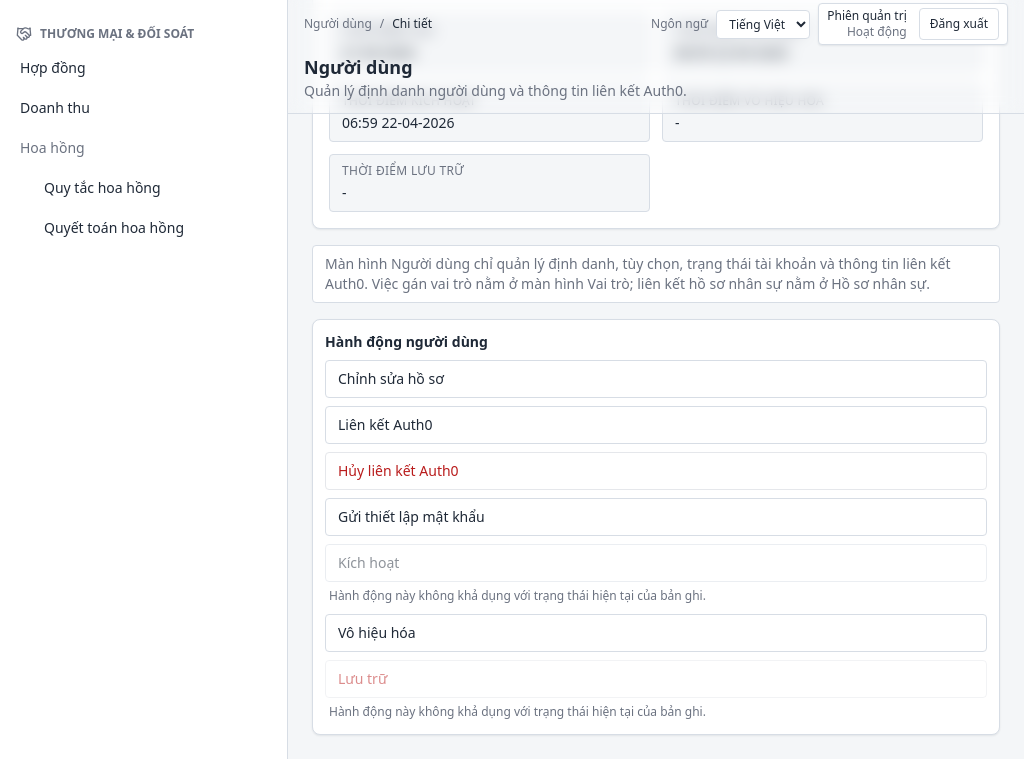
Test: user IA-1 surfaces › links and unlinks Auth0 through backend-owned account routes
(page scrolled)
Click the button "Liên kết Auth0" at [385, 424], box [325,406,987,444]
(page scrolled)
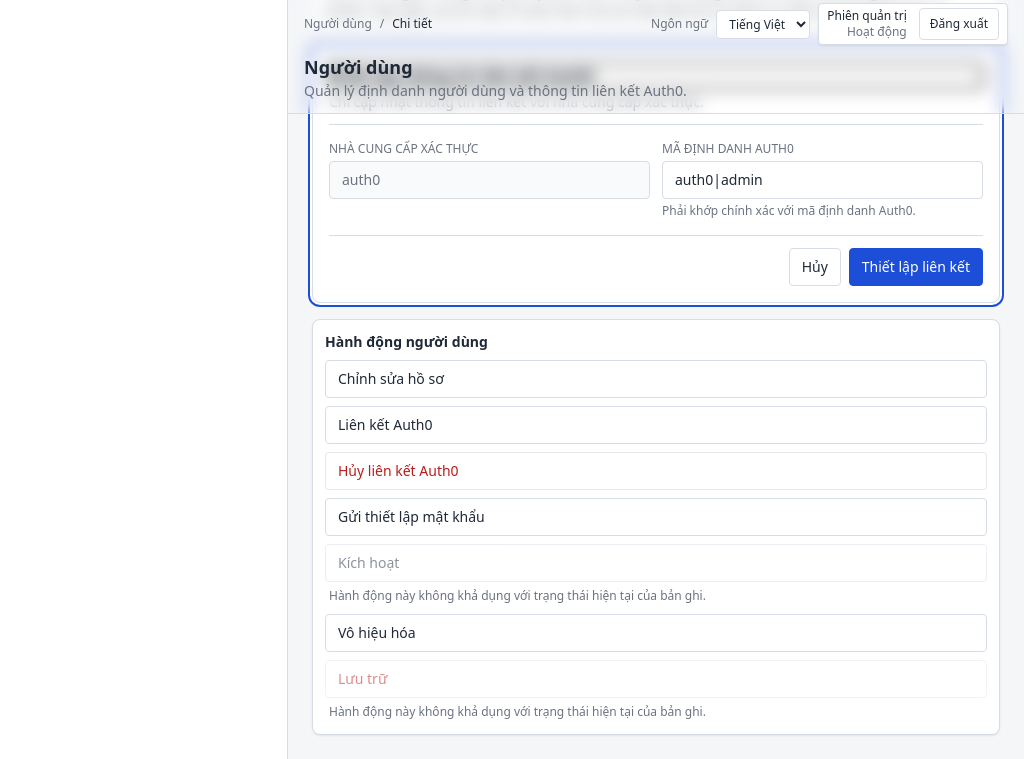
Replace the text in the field labelled "Mã định danh Auth0" with "auth0|ia-linked" at [822, 180], box [662,161,983,199]
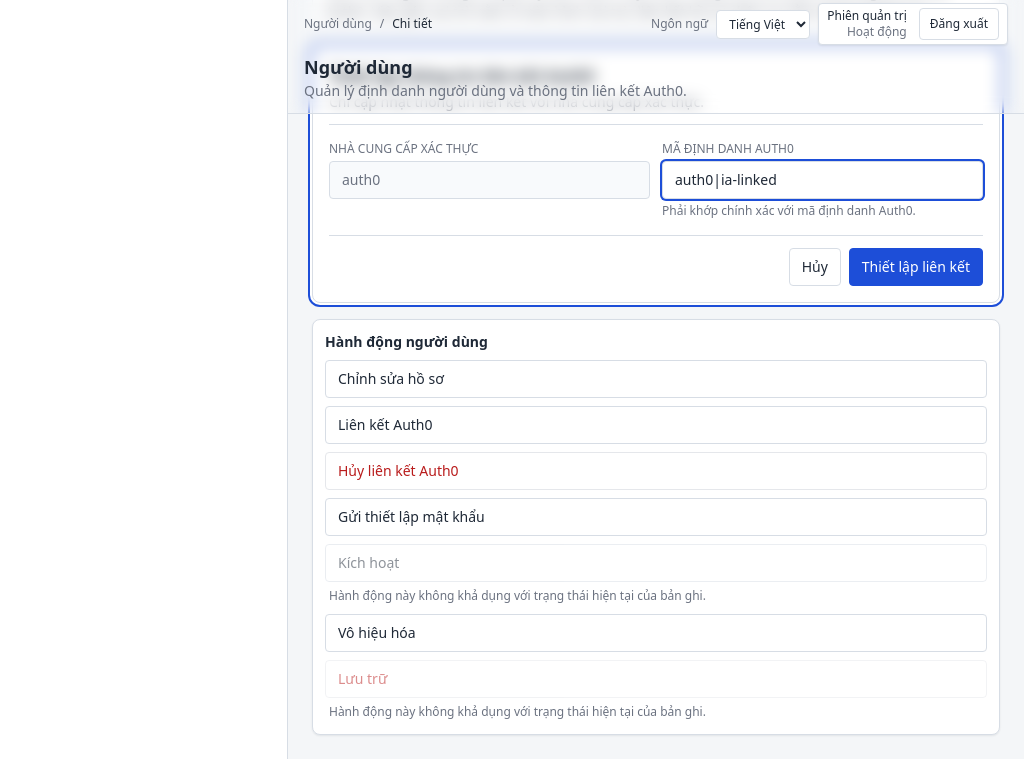
Click the button "Thiết lập liên kết" at [916, 267], box [849,248,983,286]
(page scrolled)
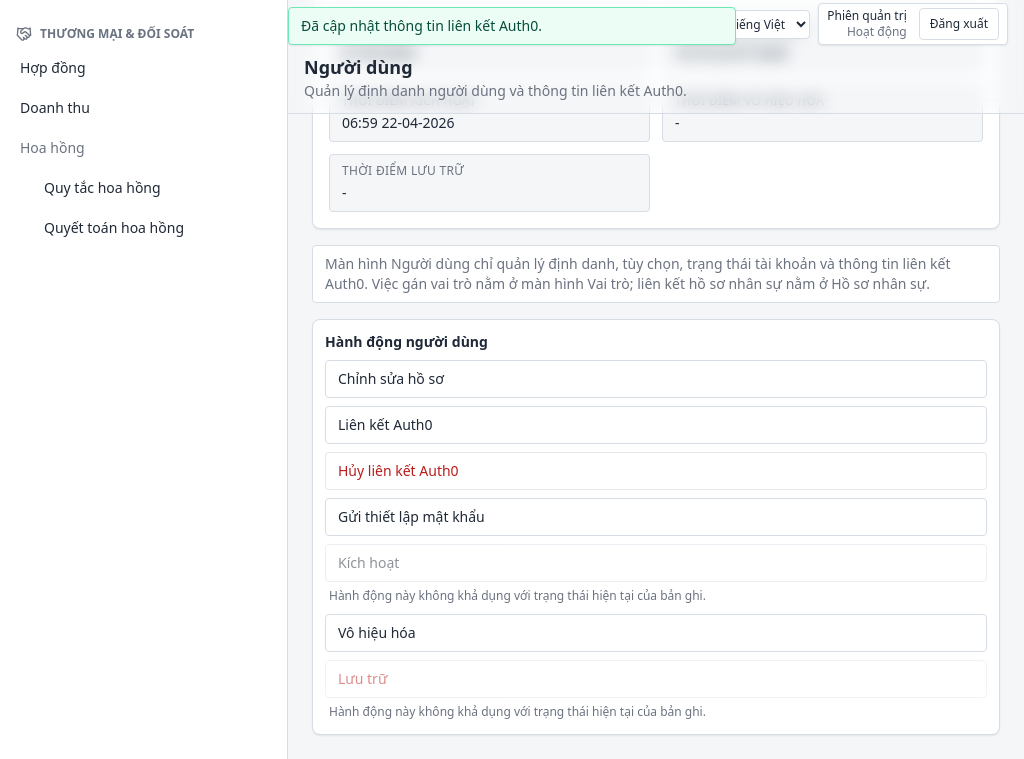
Click the button "Hủy liên kết Auth0" at [398, 470], box [325,452,987,490]
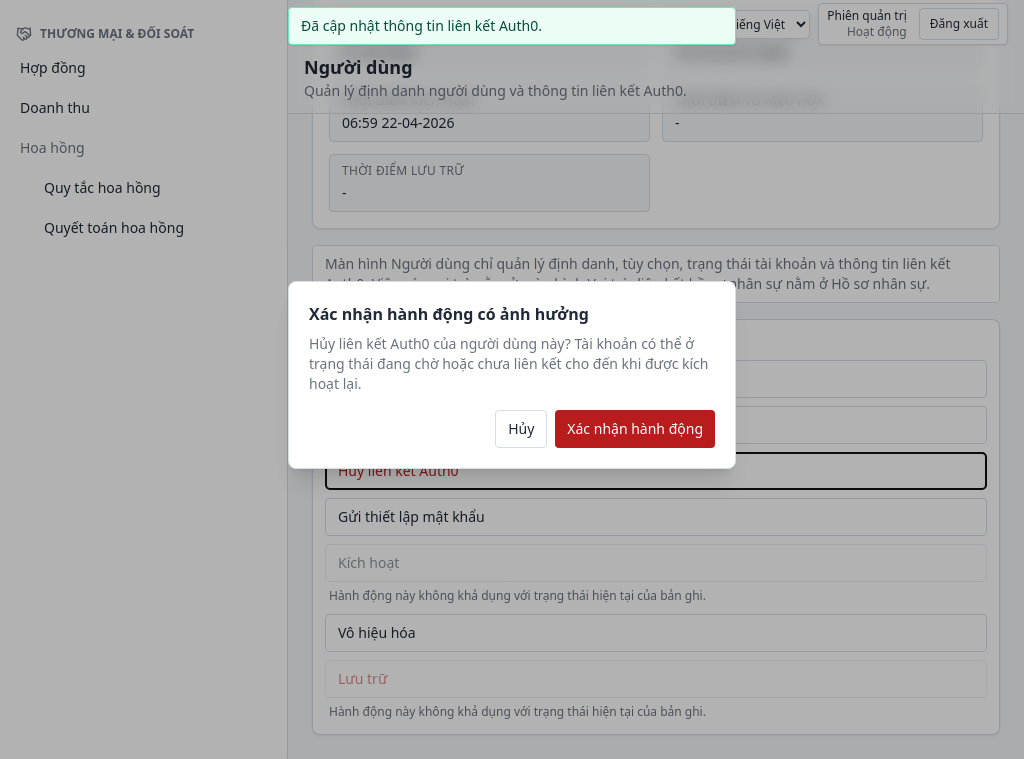
Click the button "Xác nhận hành động" at [635, 429], box [555,410,715,448]
(page scrolled)
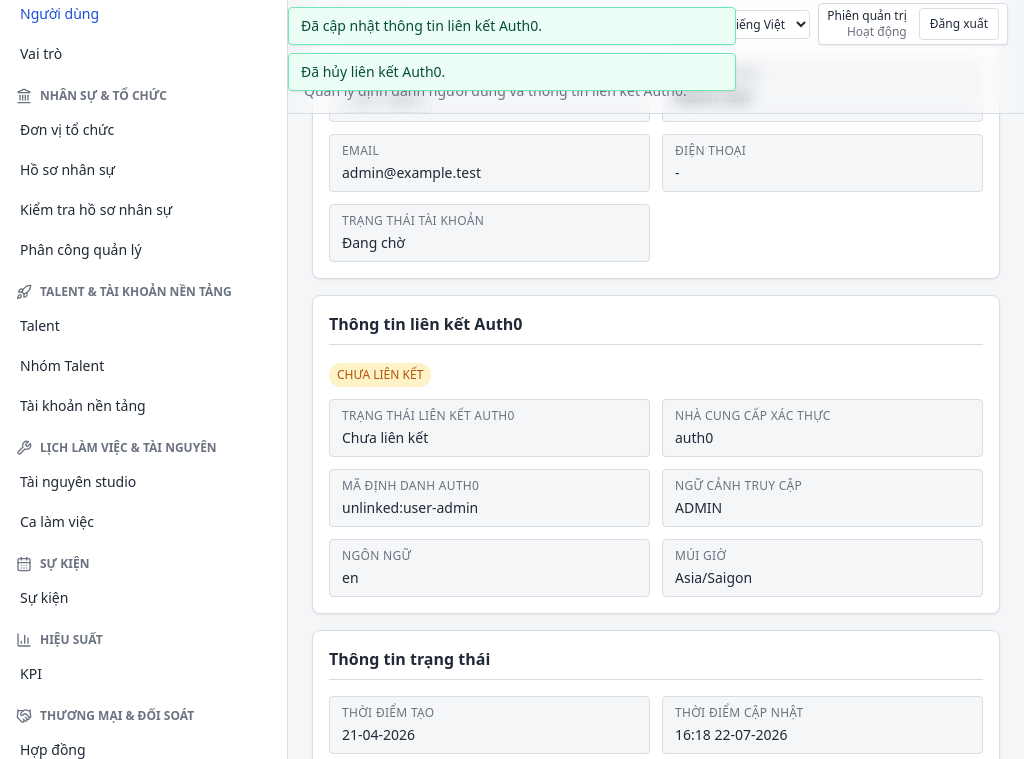
Expected: the 1st text "Chưa liên kết" is shown, [329,363,431,387]
